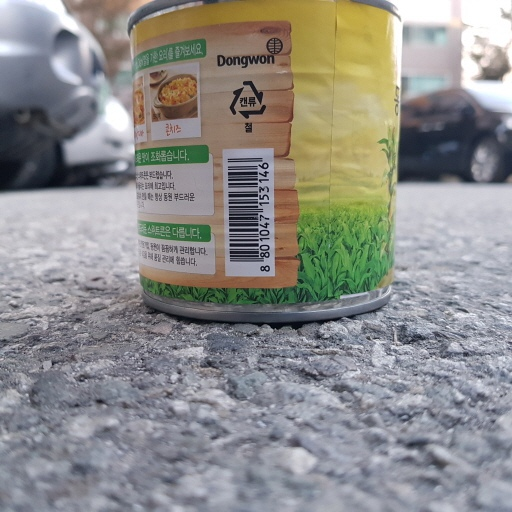Metal_1: (125, 1, 407, 322)
